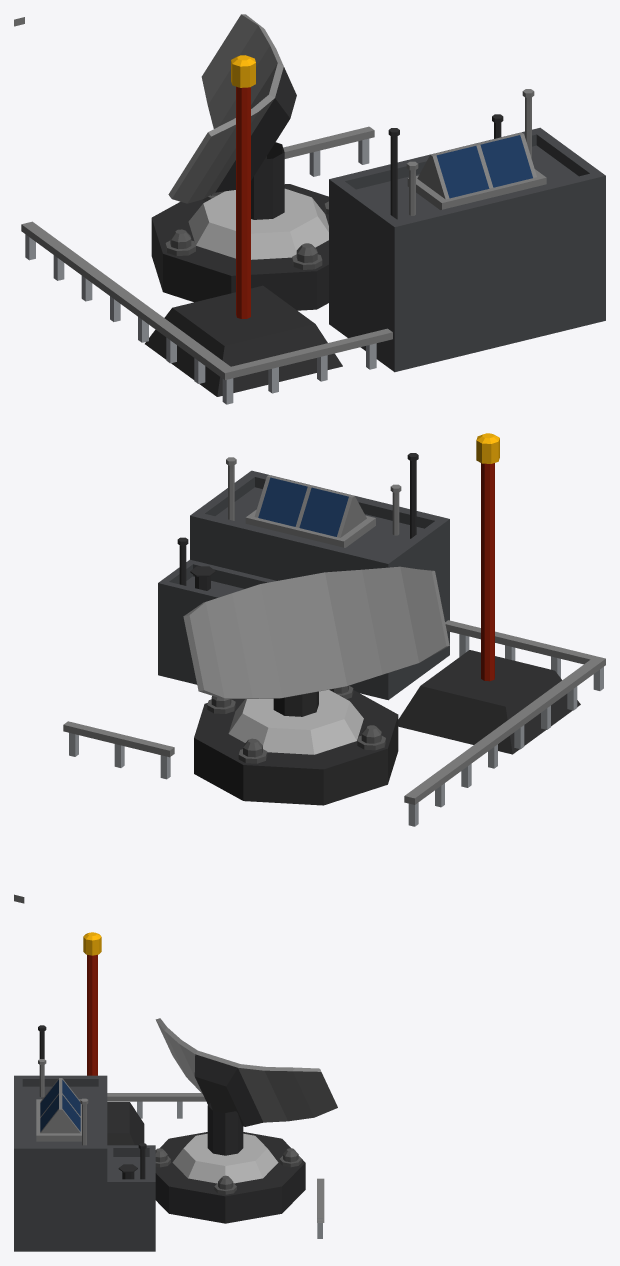
File: Radar.fbx
3 renders of one model, top to bottom at view 1: azimuth 30°, elevation 25°; view 2: azimuth 150°, elevation 25°; view 3: azimuth 270°, elevation 25°, orthographic. The views are drawn at different scales.
Visible parts, largest first — view 1: base.003, radar, base.006, glow.003; view 2: base.003, radar, base.006, glow.003; view 3: base.003, radar, base.006, glow.003.
Boxes of the visible parts, <box> form: base.003: <box>14,17,605,404</box>; radar: <box>168,14,296,203</box>; base.006: <box>436,135,532,198</box>; glow.003: <box>170,55,317,262</box>; base.003: <box>14,453,605,903</box>; radar: <box>183,566,449,698</box>; base.006: <box>258,477,348,536</box>; glow.003: <box>211,433,499,757</box>; base.003: <box>14,954,324,1251</box>; radar: <box>155,1018,337,1126</box>; base.006: <box>40,1080,80,1131</box>; glow.003: <box>83,932,298,1189</box>.
Size of the model in its own units: 389 by 300 by 740.
